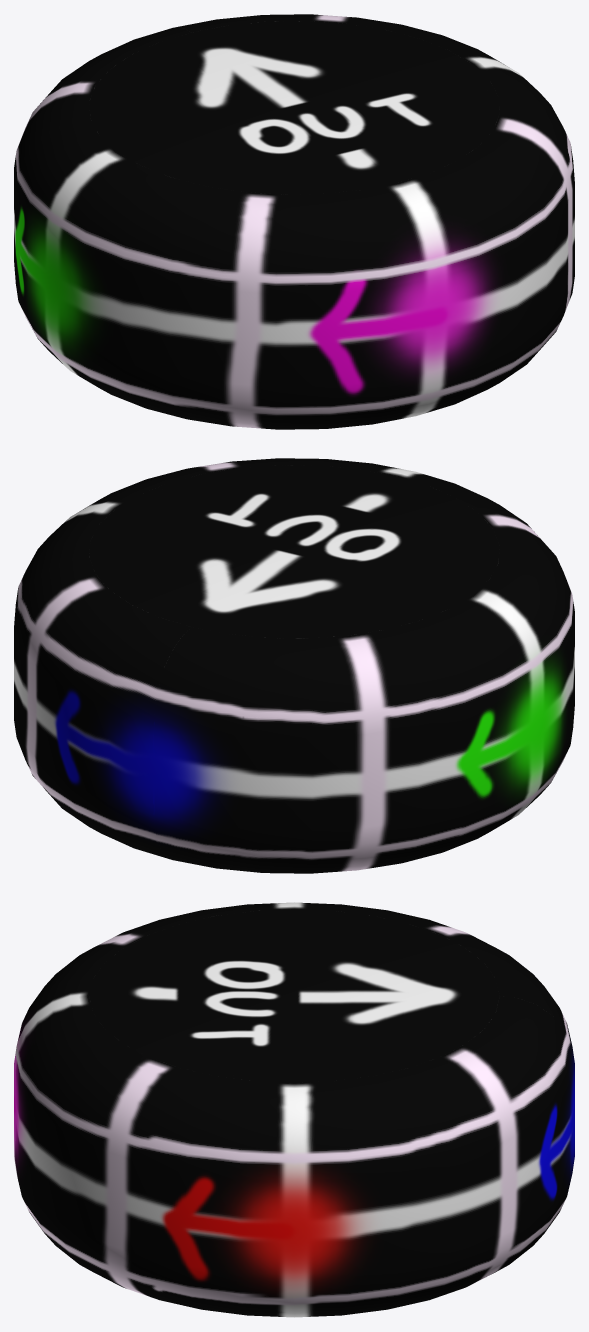
Rendered from Wheel.dae.
The picture shows the model from 3 angles, top to bottom: view 1: azimuth 30°, elevation 25°; view 2: azimuth 150°, elevation 25°; view 3: azimuth 270°, elevation 25°; orthographic projection.
Visible parts, largest first — view 1: FR; view 2: FR; view 3: FR.
Boxes of the visible parts, <box> form: FR: <box>14,14,574,429</box>; FR: <box>14,458,574,873</box>; FR: <box>14,902,574,1317</box>.
Size of the model in its own units: 2 by 2 by 0.8963.
